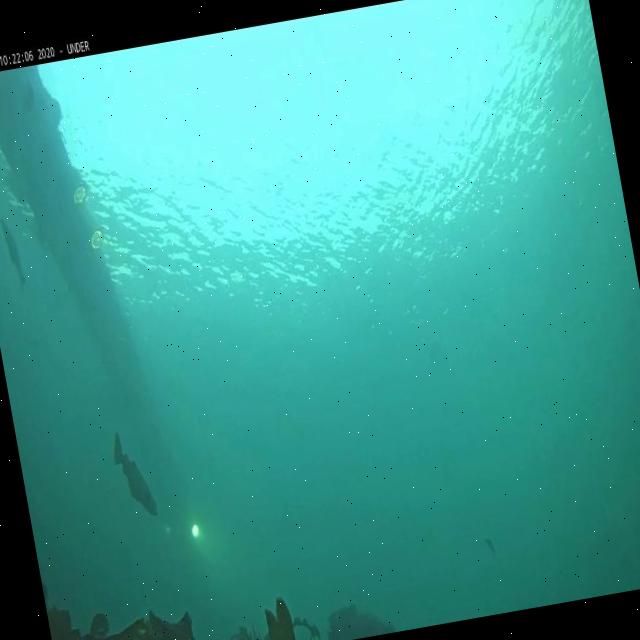fish: (112, 434, 158, 520), (0, 213, 26, 289), (484, 536, 497, 557)
